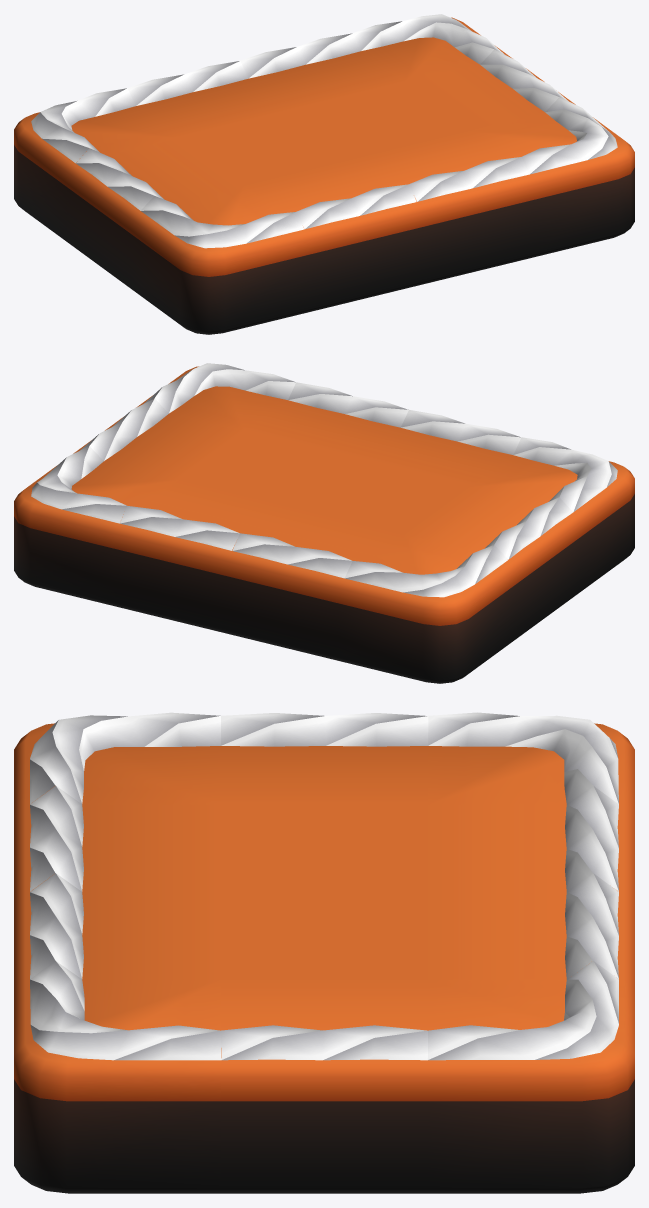
Rendered from m_SheetCake07.fbx.
The picture shows the model from 3 angles, top to bottom: view 1: azimuth 30°, elevation 25°; view 2: azimuth 150°, elevation 25°; view 3: azimuth 270°, elevation 25°; orthographic projection. The views are drawn at different scales.
Parts seen in each view (by area): view 1: m_SheetCake07; view 2: m_SheetCake07; view 3: m_SheetCake07.
Part boxes in pixels (bbox=[...]): m_SheetCake07: bbox=[14, 14, 634, 334]; m_SheetCake07: bbox=[14, 363, 634, 683]; m_SheetCake07: bbox=[14, 712, 634, 1193].
Size of the model in its own units: 40 by 8 by 30.
